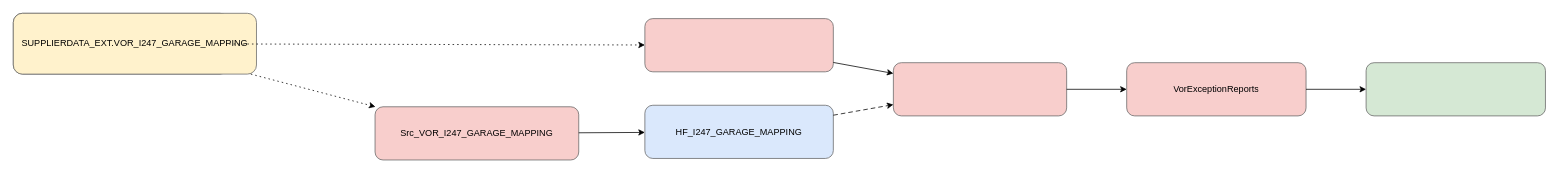
The diagram is 1559 pixels wide and 173 high, and some of its shapes have lost their labels. Here are the shapes that lost their labels. From the top down, the centre of each, then its label:
the point at 738,45: LkpVorExceptionReports
the point at 980,89: TrExceptionReport
the point at 1455,89: VOR_EXCEPTIONS_FILE
